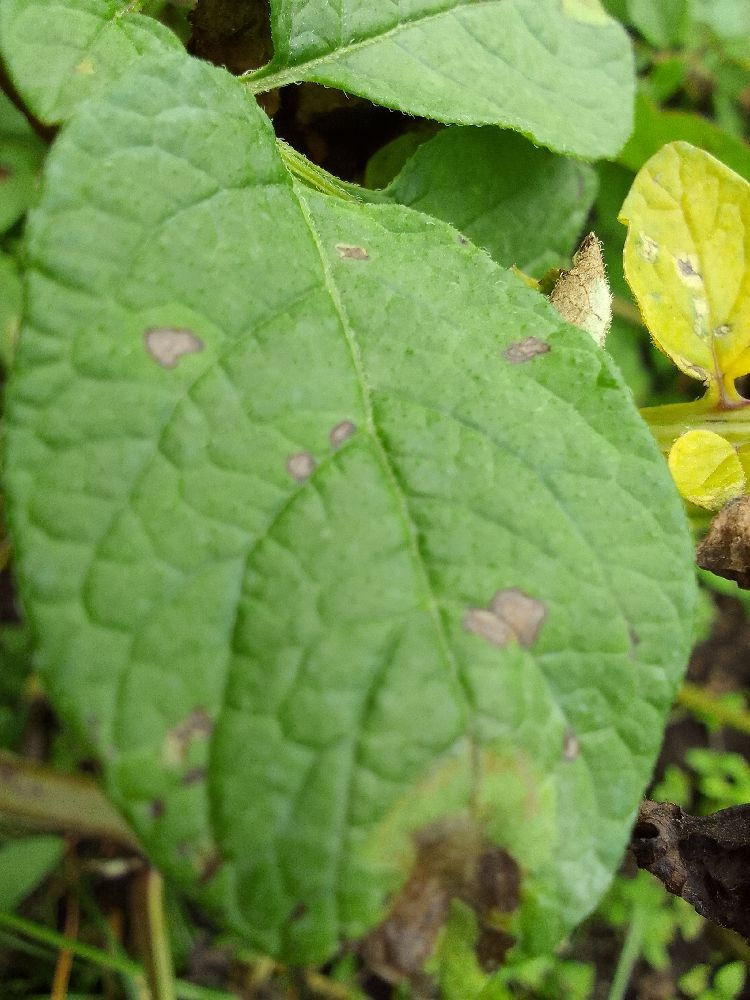late_blight: (521, 661, 750, 1000), (0, 633, 209, 1000), (172, 804, 540, 999), (668, 570, 750, 732)
